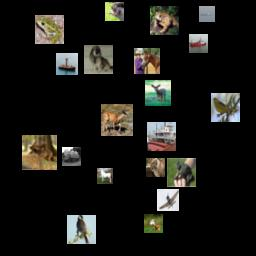airplane: (157, 189, 179, 211)
bird: (211, 93, 240, 122), (67, 215, 96, 244), (105, 2, 124, 21)
cat: (146, 158, 165, 177)
deer: (22, 135, 57, 170), (101, 104, 133, 136), (145, 80, 171, 106), (144, 214, 163, 233)
dog: (84, 45, 113, 74)
frog: (167, 158, 196, 187), (35, 15, 64, 44), (150, 6, 179, 35)
ship: (147, 122, 176, 151), (56, 53, 78, 75), (189, 34, 208, 53), (199, 6, 215, 22)
truck: (62, 147, 81, 166)
